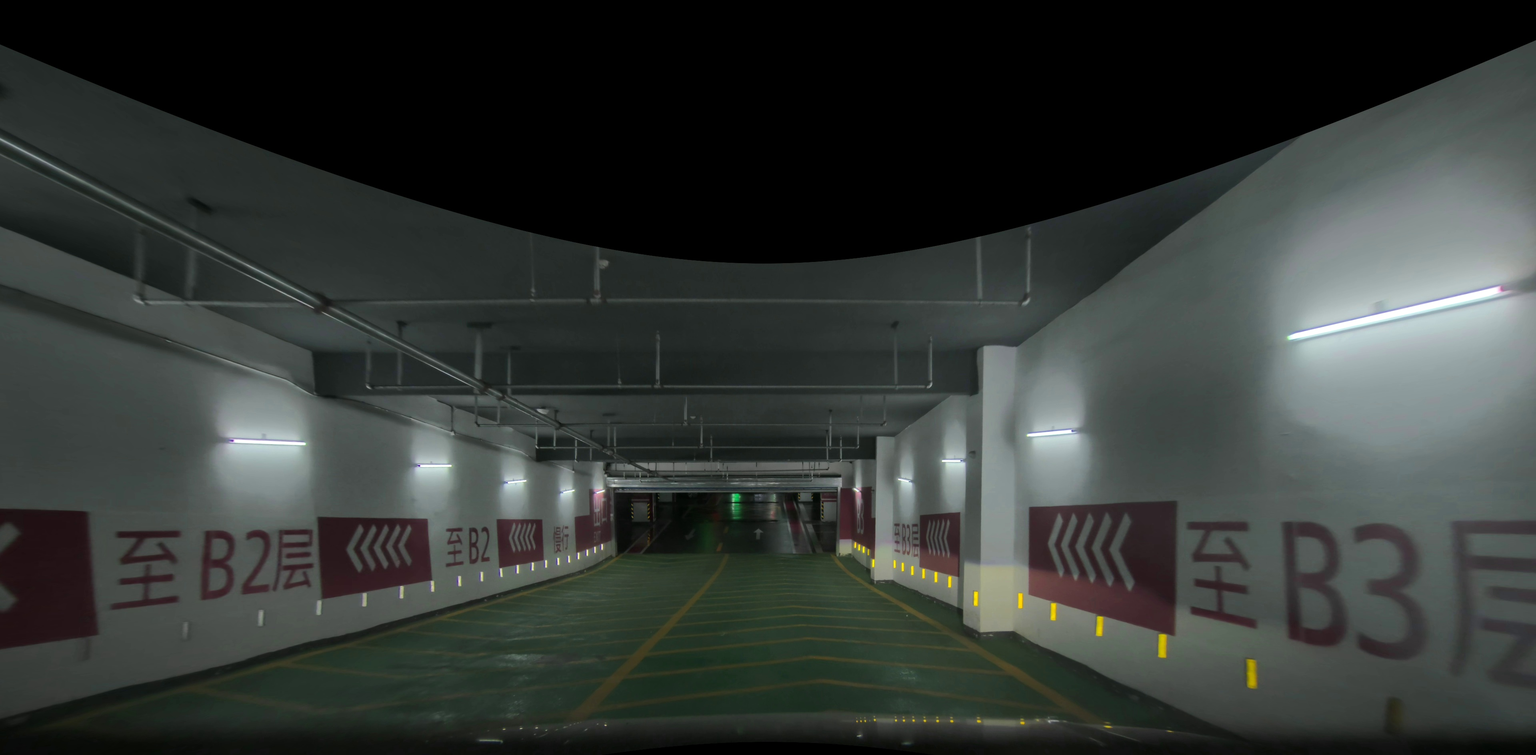B3: (854, 498, 866, 533)
EXIT: (591, 531, 603, 542)
上: (751, 525, 766, 541)
下: (683, 528, 698, 542)
出口: (591, 496, 608, 526)
左: (1046, 515, 1136, 589), (342, 524, 414, 566), (508, 524, 538, 556), (924, 521, 950, 556)
慢行: (551, 526, 570, 552)
至B2: (444, 524, 494, 566)
至B2层: (107, 524, 316, 607)
至B3层: (1184, 515, 1536, 683), (889, 521, 920, 556)
